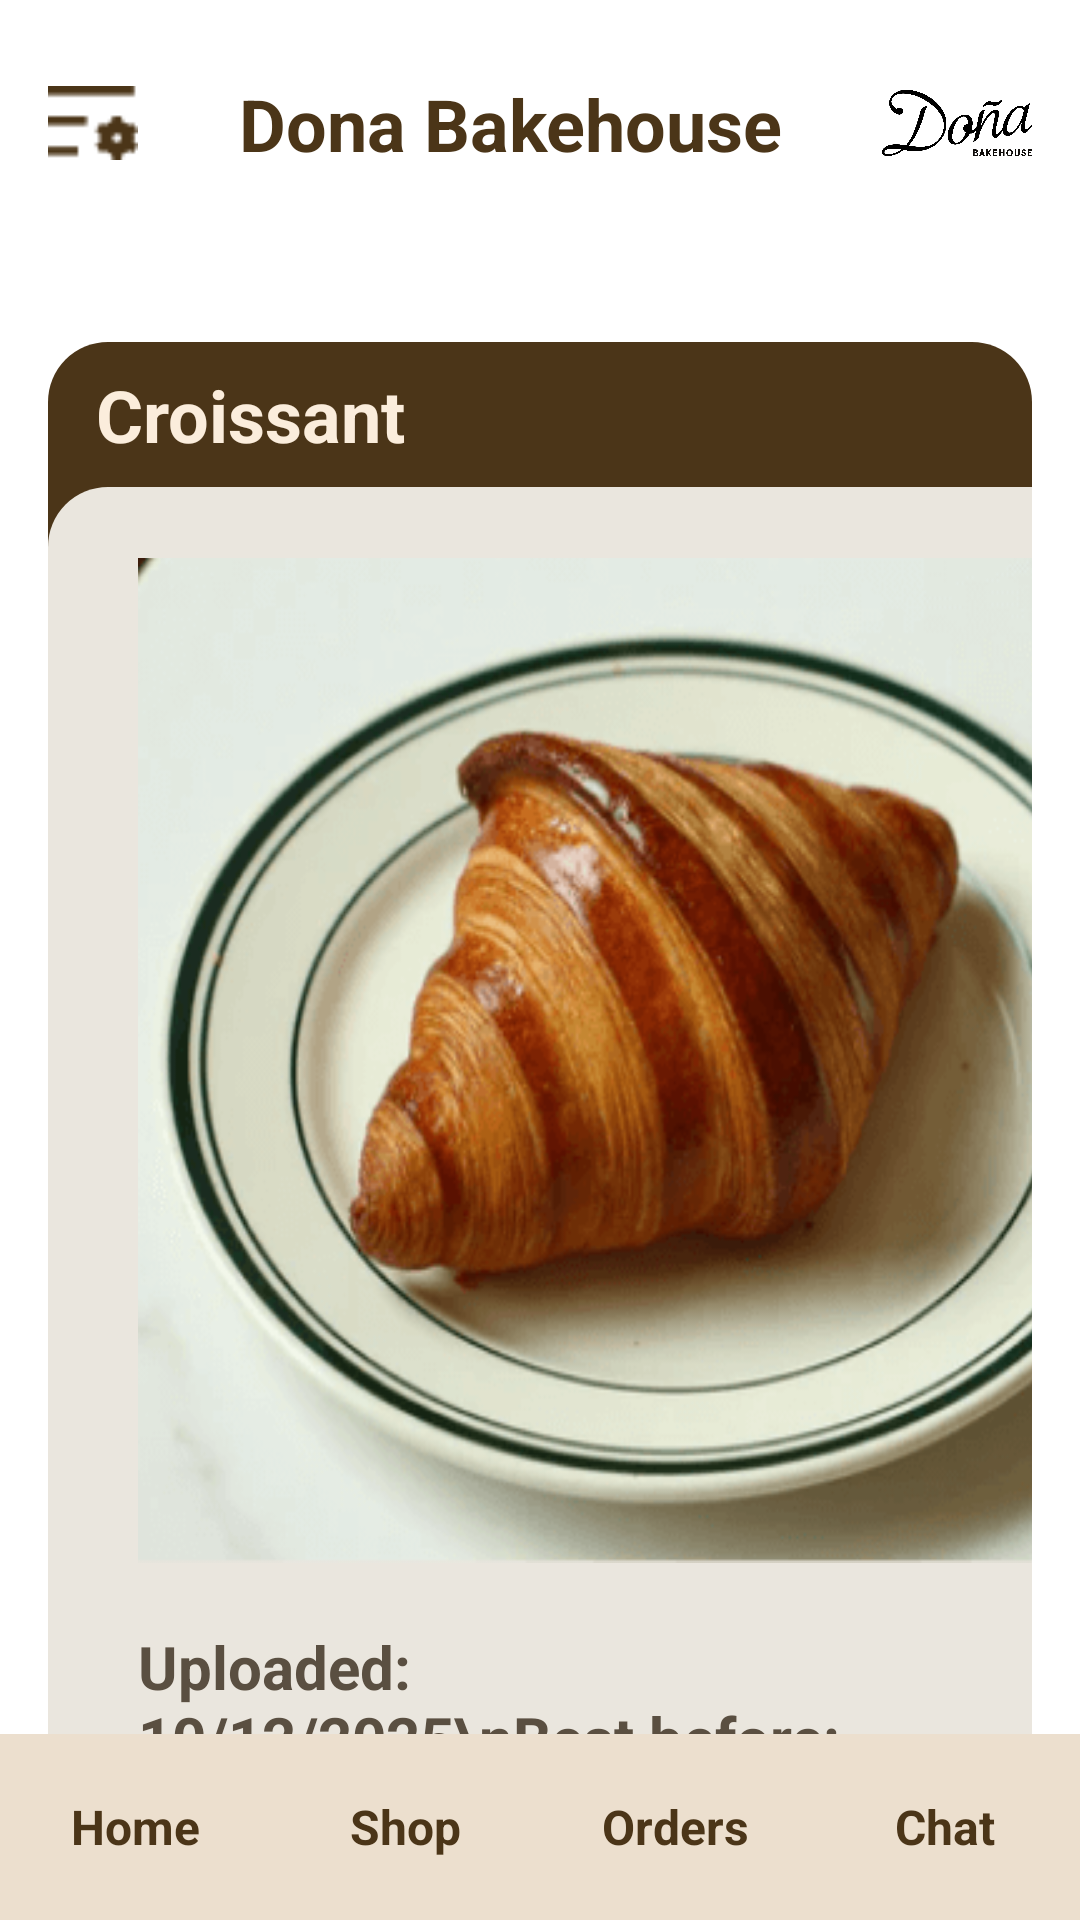

Point at icon controls on the screen. Image size 1080w x 1920h, points as (x,y).
more: (93,123)
